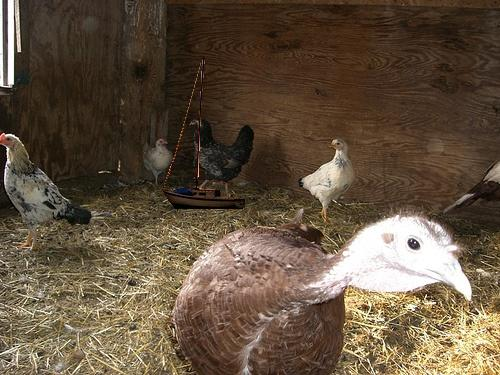tampered: (163, 59, 245, 209)
